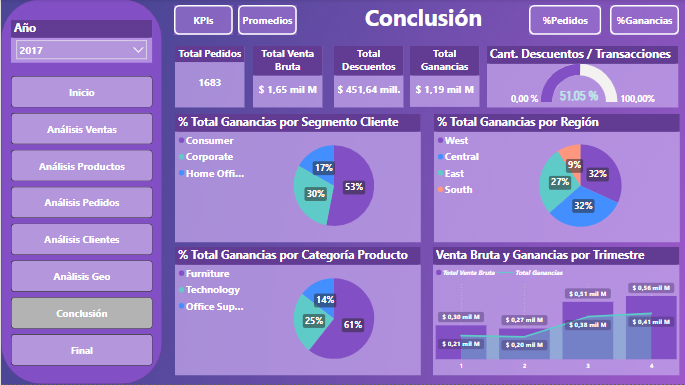

Layout of this report page (visuals, bound fields, positions):
{"tool":"powerbi","page":{"name":"Conclusión","canvas":[1280,720],"ordinal":6},"visuals":[{"type":"shape","box":[0,0,301.2,720.6],"z":0},{"type":"pageNavigator","box":[18,144.2,265,544.5],"z":1000},{"type":"textbox","box":[325.5,0,929.4,71.2],"z":2000},{"type":"slicer","title":"Año","fields":{"Values":["Calendario.Año"]},"box":[18.1,39.2,263.6,79.8],"z":3000},{"type":"pieChart","title":"% Total Ganancias por Segmento Cliente","fields":{"Category":["Clientes.Segmento_Cliente"],"Y":["Medidas.Porcentaje_Total_Ganancias"]},"box":[326.3,214.5,460,240],"z":4000},{"type":"pieChart","title":"% Total Ganancias por Región","fields":{"Category":["Geo.Region"],"Y":["Medidas.Porcentaje_Total_Ganancias"]},"box":[809.5,214.5,460,240],"z":5000},{"type":"pieChart","title":"% Total Ganancias por Categoría Producto","fields":{"Category":["Productos.Categoria_Producto"],"Y":["Medidas.Porcentaje_Total_Ganancias"]},"box":[326.3,463.3,460,240],"z":6000},{"type":"lineClusteredColumnComboChart","title":"Venta Bruta y Ganancias por Trimestre","fields":{"Category":["Calendario.Trimestre"],"Y":["Medidas.Total_Venta_Bruta"],"Y2":["Medidas.Total_Ganancias"]},"box":[807.8,463.9,461,240],"z":7000},{"type":"card","title":"Total Pedidos","fields":{"Values":["Medidas.Total_Pedidos_Ventas"]},"box":[325.1,88,130.4,115],"z":8000},{"type":"card","title":"Total Ganancias","fields":{"Values":["Medidas.Total_Ganancias"]},"box":[765.2,87.4,129.5,114.5],"z":9000},{"type":"card","title":"Total Venta Bruta","fields":{"Values":["Medidas.Total_Venta_Bruta"]},"box":[471.6,87.6,129.7,115],"z":10000},{"type":"card","title":"Total Descuentos","fields":{"Values":["Medidas.Total_Montos_Descuentos"]},"box":[623.2,87.6,129.7,115],"z":11000},{"type":"gauge","title":"Cant. Descuentos / Transacciones","fields":{"Y":["Medidas.Porcentaje_Descuentos_Transacciones"],"MaxValue":["Medidas.Total_Transacciones"]},"box":[909.8,88.9,358.5,115],"z":12000},{"type":"actionButton","title":"Pedidos","box":[988.3,11.2,135.5,55.8],"z":17000},{"type":"actionButton","title":"Ganancias","box":[1139.7,11.2,129.1,55.8],"z":18000},{"type":"actionButton","title":"Promedios","box":[444.4,10.5,110,55.7],"z":19000},{"type":"actionButton","title":"KPIs","box":[323.8,10.5,110,55.7],"z":20000}]}

Visuals, with their boxes in screenshot pixels (x1, y1, x2, y2), scaled from the page's 1280x720 canvas onto the 685x385 screenshot:
shape: locate(0, 0, 161, 384)
pageNavigator: locate(10, 77, 151, 368)
textbox: locate(174, 0, 672, 38)
"Año" slicer: locate(10, 21, 151, 64)
"% Total Ganancias por Segmento Cliente" pieChart: locate(175, 115, 421, 243)
"% Total Ganancias por Región" pieChart: locate(433, 115, 679, 243)
"% Total Ganancias por Categoría Producto" pieChart: locate(175, 248, 421, 376)
"Venta Bruta y Ganancias por Trimestre" lineClusteredColumnComboChart: locate(432, 248, 679, 376)
"Total Pedidos" card: locate(174, 47, 244, 109)
"Total Ganancias" card: locate(410, 47, 479, 108)
"Total Venta Bruta" card: locate(252, 47, 322, 108)
"Total Descuentos" card: locate(334, 47, 403, 108)
"Cant. Descuentos / Transacciones" gauge: locate(487, 48, 679, 109)
"Pedidos" actionButton: locate(529, 6, 601, 36)
"Ganancias" actionButton: locate(610, 6, 679, 36)
"Promedios" actionButton: locate(238, 6, 297, 35)
"KPIs" actionButton: locate(173, 6, 232, 35)
